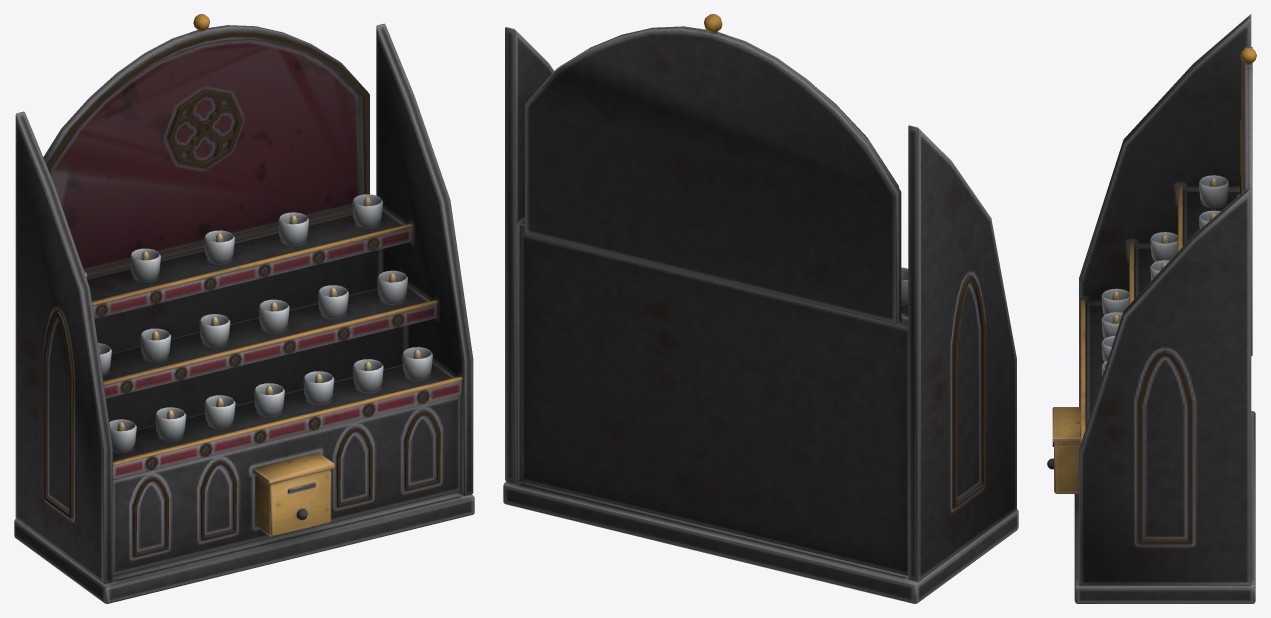
Rendered from VotiveStand.fbx.
3 renders of one model, left to right at view 1: azimuth 30°, elevation 25°; view 2: azimuth 150°, elevation 25°; view 3: azimuth 270°, elevation 25°, orthographic. The views are drawn at different scales.
Visible parts, largest first — view 1: VotiveStand_Main, VotiveStand_Glass, VotiveStand_Glow; view 2: VotiveStand_Main; view 3: VotiveStand_Main, VotiveStand_Glass, VotiveStand_Glow.
Boxes of the visible parts, x1,y1,x2,y2 form: VotiveStand_Main: [14, 14, 474, 603]; VotiveStand_Glass: [84, 194, 432, 452]; VotiveStand_Glow: [98, 197, 421, 431]; VotiveStand_Main: [503, 14, 1018, 603]; VotiveStand_Main: [1047, 14, 1256, 603]; VotiveStand_Glass: [1101, 175, 1228, 376]; VotiveStand_Glow: [1112, 178, 1217, 342].
Size of the model in its own units: 303 by 372 by 151.
